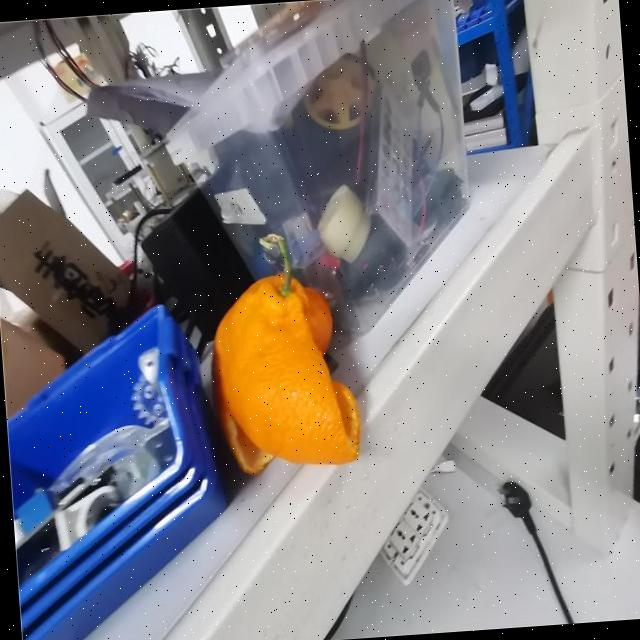orange-peel: (205, 264, 364, 474)
